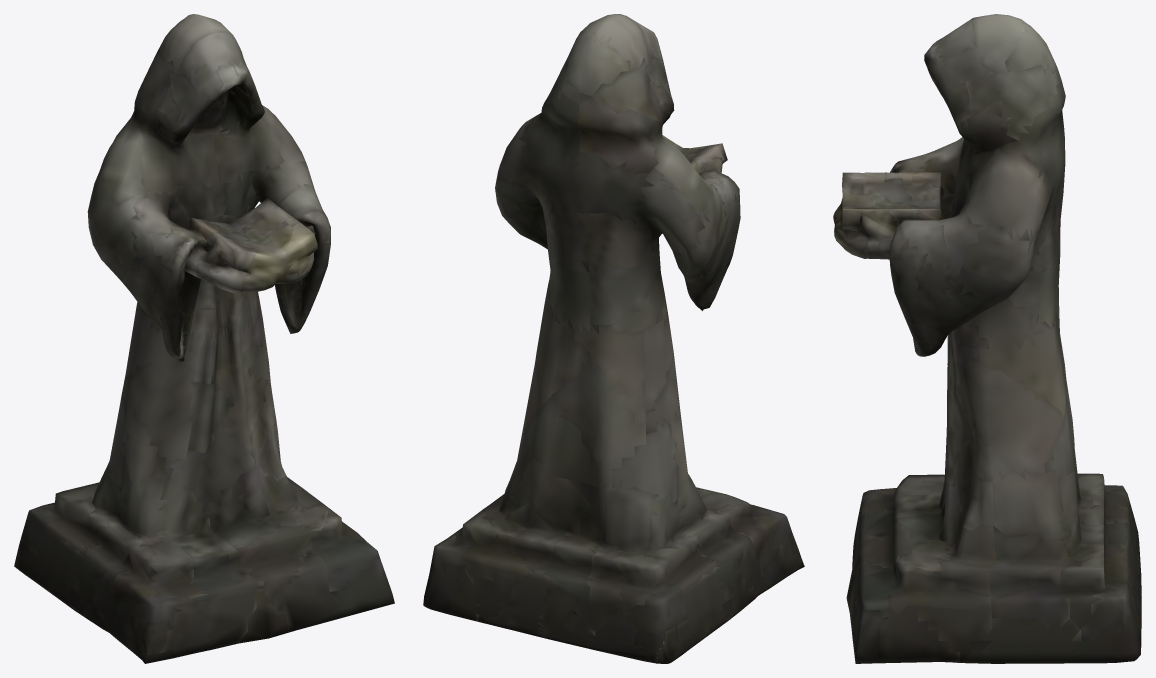
File: statue.glb
3 renders of one model, left to right at view 1: azimuth 30°, elevation 25°; view 2: azimuth 150°, elevation 25°; view 3: azimuth 270°, elevation 25°, orthographic. The views are drawn at different scales.
Size of the model in its own units: 0.9211 by 1.99 by 0.9513.
Materials: 1 (1 with a texture image).
